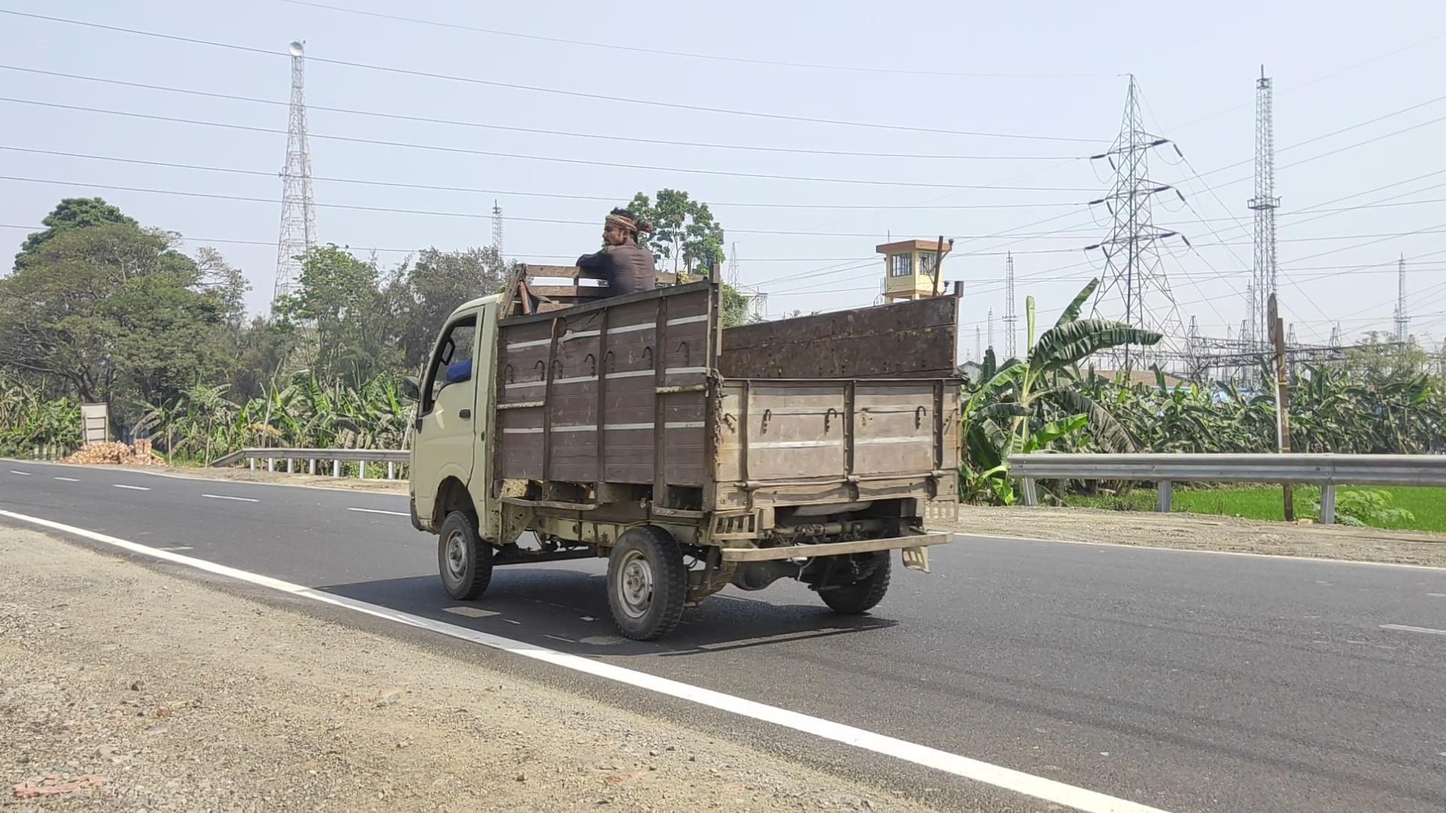van: (403, 211, 965, 640)
